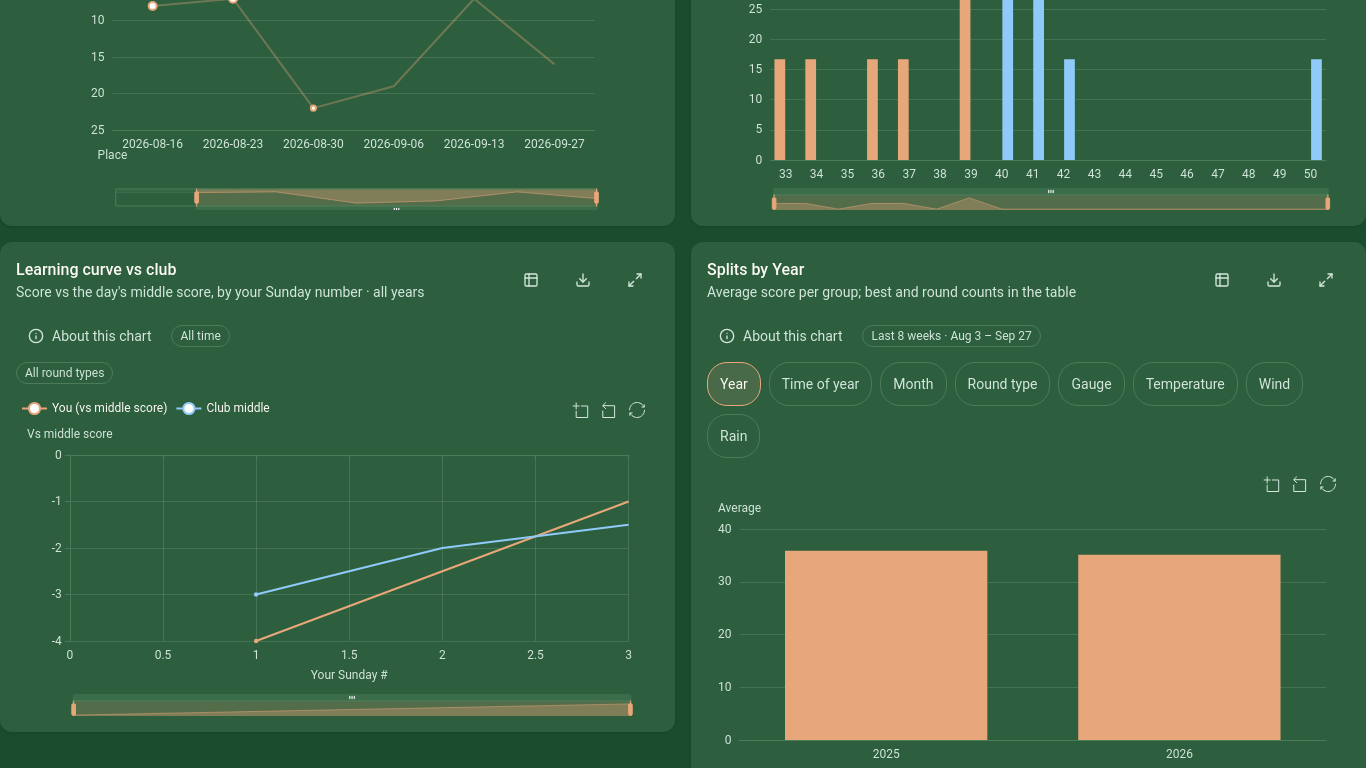
Test: ProfileCharts › switching the split chip requests that split and retitles the chart
This screenshot has width=1366, height=768.
(page scrolled)
Expected: the heading "Splits by Year" is shown, [707, 260, 804, 279]
What coordinates should you click on to do the following:
click the button "Gauge"
I would click on:
 (1092, 384)
Its box is [1058, 362, 1125, 406].
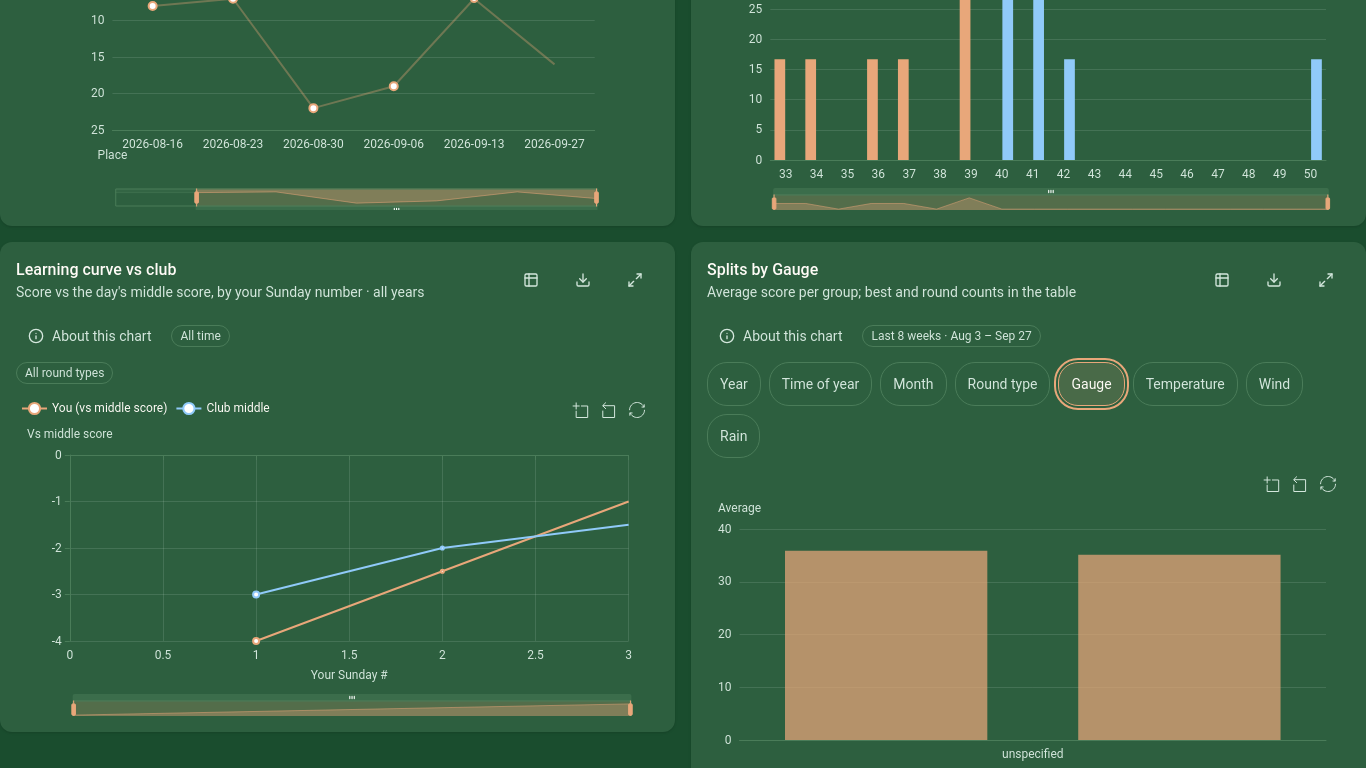
Now the heading "Splits by Gauge" is shown, box [707, 260, 818, 279]
